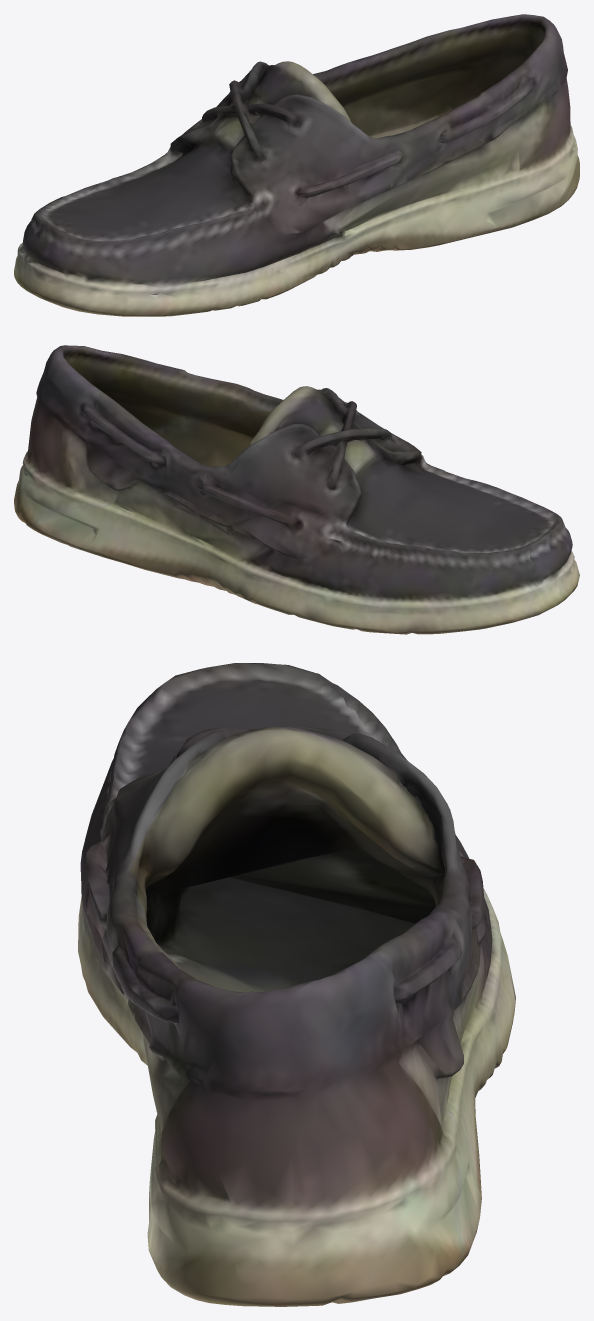
Rendered from Mens_Authentic_Original_Boat_Shoe_in_Navy_Leather_RpT4GvUXRRP-high.glb.
3 views of the same model, one above another, from view 1: azimuth 30°, elevation 25°; view 2: azimuth 150°, elevation 25°; view 3: azimuth 270°, elevation 25° (orthographic). The views are drawn at different scales.
Visible parts, largest first — view 1: Mens_Authentic_Original_Boat_Shoe_in_Navy_Leather_RpT4GvUXRR; view 2: Mens_Authentic_Original_Boat_Shoe_in_Navy_Leather_RpT4GvUXRR; view 3: Mens_Authentic_Original_Boat_Shoe_in_Navy_Leather_RpT4GvUXRR.
Boxes of the visible parts, x1=… form: Mens_Authentic_Original_Boat_Shoe_in_Navy_Leather_RpT4GvUXRR: x1=14, y1=14, x2=579, y2=316; Mens_Authentic_Original_Boat_Shoe_in_Navy_Leather_RpT4GvUXRR: x1=14, y1=345, x2=579, y2=634; Mens_Authentic_Original_Boat_Shoe_in_Navy_Leather_RpT4GvUXRR: x1=78, y1=663, x2=515, y2=1306.
Bounding box in the file's own units: 0.2497 × 0.0809 × 0.0897.
Materials: 1 (1 with a texture image).
